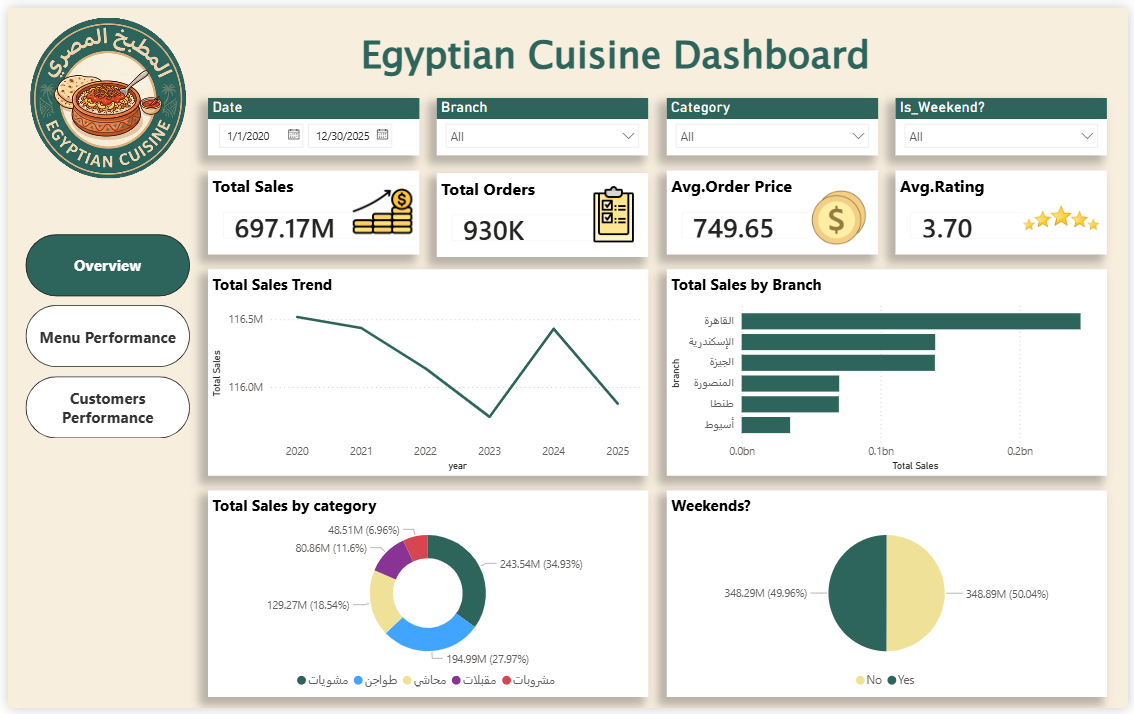

The dashboard page shown, as its layout file describes it:
{"tool":"powerbi","page":{"name":"Overview","canvas":[1280,800],"ordinal":0},"visuals":[{"type":"image","box":[0,0,229.2,204.5],"z":0},{"type":"pageNavigator","box":[20,258.6,188.6,235.7],"z":1000},{"type":"textbox","box":[341.4,17.1,705.7,75.7],"z":2000},{"type":"slicer","title":"Branch","fields":{"Values":["restaurant.branch"]},"box":[490.5,102.9,241.4,65.7],"z":3000},{"type":"slicer","title":"Category","fields":{"Values":["restaurant.category"]},"box":[752.4,102.9,241.4,65.7],"z":4000},{"type":"slicer","title":"Is_Weekend?","fields":{"Values":["restaurant.weekend_flag"]},"box":[1014.3,102.9,241.4,65.7],"z":5000},{"type":"cardVisual","fields":{"Data":["Measure.Avg.Order price"]},"box":[752.9,185.7,241.4,95.7],"z":6000},{"type":"cardVisual","fields":{"Data":["Measure.Total Revenue"]},"box":[228.6,185.7,241.4,95.7],"z":7000,"group":"g2"},{"type":"cardVisual","fields":{"Data":["Measure.Avg.Rating"]},"box":[1014.3,185.7,241.4,95.7],"z":7000},{"type":"group","id":"g1","title":"Group 1","box":[490,185.7,241.4,100],"z":8000},{"type":"cardVisual","fields":{"Data":["Measure.Total Orders"]},"box":[490,187.9,241.4,95.7],"z":8000,"group":"g1"},{"type":"image","box":[914.3,204.3,70,70],"z":9000},{"type":"group","id":"g2","title":"Group 2","box":[228.6,185.7,241.4,95.7],"z":10000},{"type":"image","box":[658.6,185.7,67.1,100],"z":10001,"group":"g1"},{"type":"image","box":[392.9,197.1,70,70],"z":10001,"group":"g2"},{"type":"image","box":[1160,204.3,87.1,70],"z":11000},{"type":"lineChart","fields":{"Y":["Measure.Total Revenue"],"Category":["restaurant.year","restaurant.month_name","restaurant.day_name"]},"box":[228.6,298.6,502.9,235.7],"z":12000},{"type":"donutChart","fields":{"Y":["Measure.Total Revenue"],"Category":["restaurant.category"]},"box":[228.6,551.4,502.9,235.7],"z":13000},{"type":"clusteredBarChart","fields":{"Category":["restaurant.branch"],"Y":["Measure.Total Sales"]},"box":[752.9,298.6,502.9,235.7],"z":14000},{"type":"pieChart","fields":{"Y":["Measure.Total Revenue"],"Category":["restaurant.weekend_flag"]},"box":[752.9,551.4,502.9,235.7],"z":15000},{"type":"slicer","title":"Date","fields":{"Values":["restaurant.order_date"]},"box":[228.6,102.9,241.4,65.7],"z":16000}]}

Visuals, with their boxes in screenshot pixels (x1, y1, x2, y2), scaled from the page's 1280x800 canvas onto the 1134x714 screenshot:
image: [left=0, top=0, right=203, bottom=183]
pageNavigator: [left=18, top=231, right=185, bottom=441]
textbox: [left=302, top=15, right=928, bottom=83]
"Branch" slicer: [left=435, top=92, right=648, bottom=150]
"Category" slicer: [left=667, top=92, right=880, bottom=150]
"Is_Weekend?" slicer: [left=899, top=92, right=1112, bottom=150]
cardVisual - Measure.Avg.Order price: [left=667, top=166, right=881, bottom=251]
cardVisual - Measure.Total Revenue: [left=203, top=166, right=416, bottom=251]
cardVisual - Measure.Avg.Rating: [left=899, top=166, right=1112, bottom=251]
"Group 1" group: [left=434, top=166, right=648, bottom=255]
cardVisual - Measure.Total Orders: [left=434, top=168, right=648, bottom=253]
image: [left=810, top=182, right=872, bottom=245]
"Group 2" group: [left=203, top=166, right=416, bottom=251]
image: [left=583, top=166, right=643, bottom=255]
image: [left=348, top=176, right=410, bottom=238]
image: [left=1028, top=182, right=1105, bottom=245]
lineChart - Measure.Total Revenue x restaurant.year: [left=203, top=267, right=648, bottom=477]
donutChart - Measure.Total Revenue x restaurant.category: [left=203, top=492, right=648, bottom=702]
clusteredBarChart - restaurant.branch x Measure.Total Sales: [left=667, top=267, right=1113, bottom=477]
pieChart - Measure.Total Revenue x restaurant.weekend_flag: [left=667, top=492, right=1113, bottom=702]
"Date" slicer: [left=203, top=92, right=416, bottom=150]
